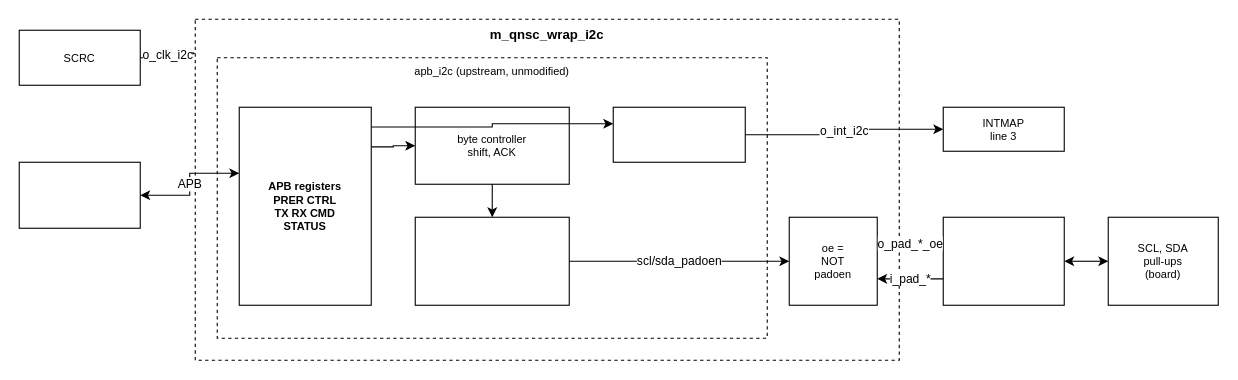
The diagram is 1238 pixels wide and 380 high, and some of its shapes have lost their labels. Each missing label, with the centre of its shape:
"bit controller SCL gen, filter START/STOP, AL" goes at pixel 491 260.
"IO MUX open-drain pads" goes at pixel 1003 260.
"irq_flag (sticky)" goes at pixel 678 134.
"P_BUS APB_M11" goes at pixel 79 194.
